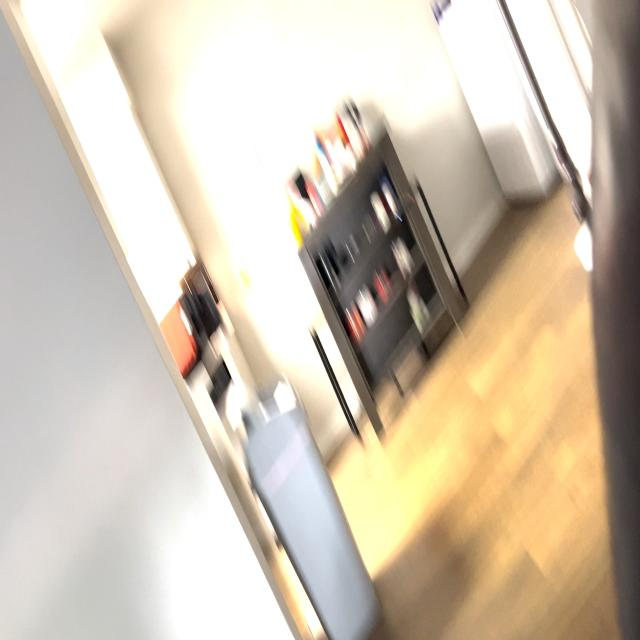drone: (371, 182, 423, 250)
